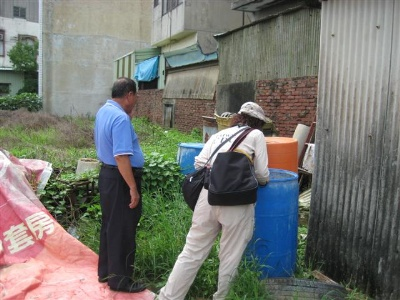bucket: (244, 168, 299, 274)
plastic_bag: (1, 228, 94, 300)
tire: (258, 278, 345, 300)
